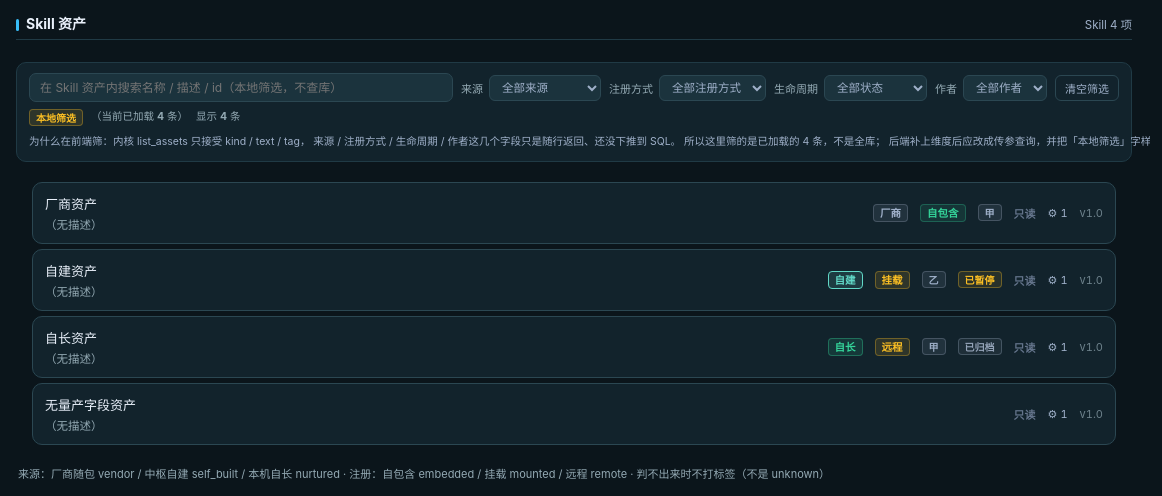
Scenario: AssetKindPanel · 本地筛选（来源 / 注册方式 / 生命周期 / 作者） › 「清空筛选」一键复位：四个维度 + 关键词全部清掉
This screenshot has width=1162, height=496.
Expected: the text "厂商资产" is shown, top-left (45, 196), bottom-right (97, 212)
Expected: the button with class "filter-clear" is disabled, top-left (1055, 74), bottom-right (1119, 100)
Select "厂商随包（1）" in the dropdown labelled "来源": (545, 88) top-left (489, 74), bottom-right (601, 100)
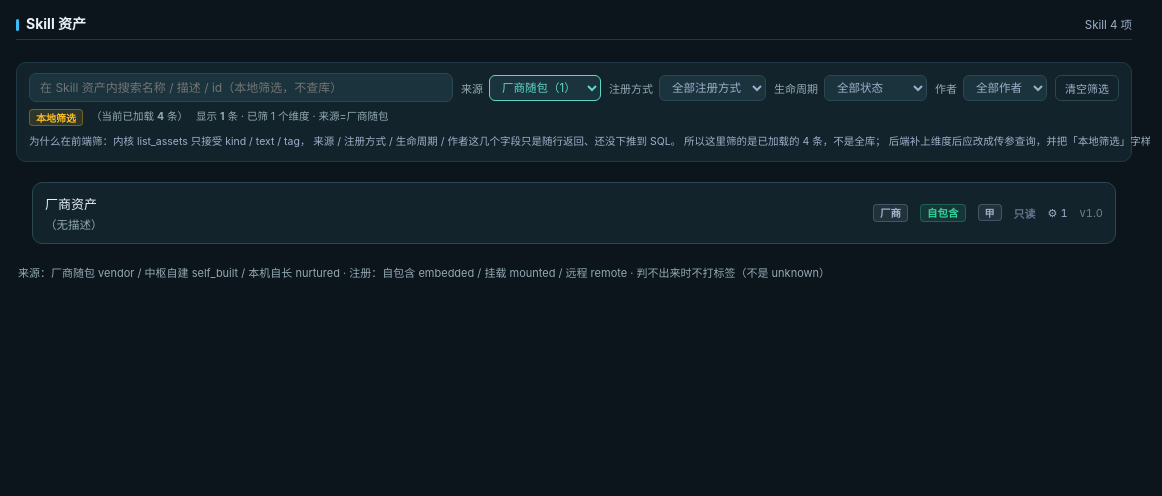
Expected: the button with class "filter-clear" is enabled, top-left (1055, 74), bottom-right (1119, 100)
In the field with class "kind-search": (241, 88) top-left (29, 73), bottom-right (453, 102), type "厂商"
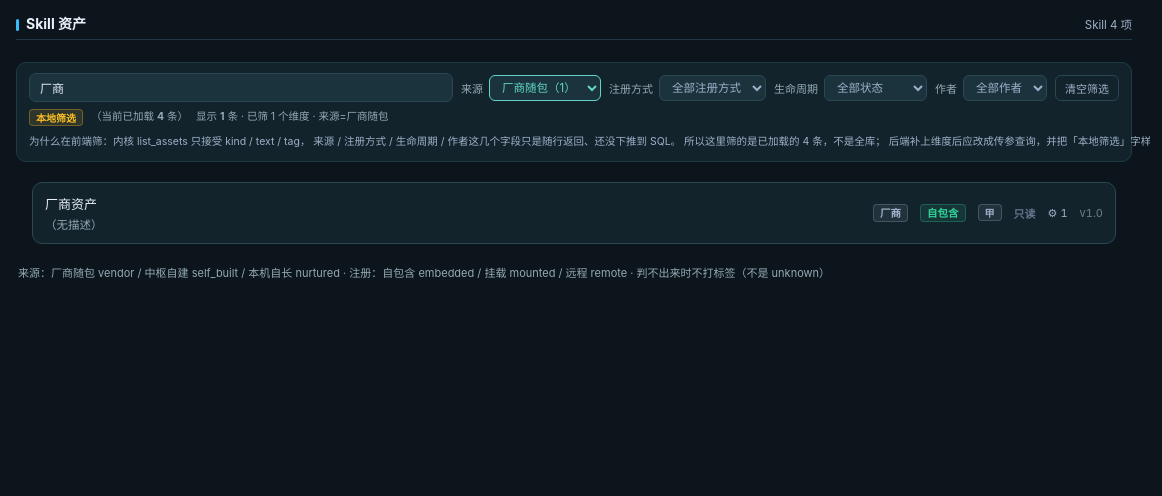
Click the button with class "filter-clear": click(1087, 88) top-left (1055, 74), bottom-right (1119, 100)
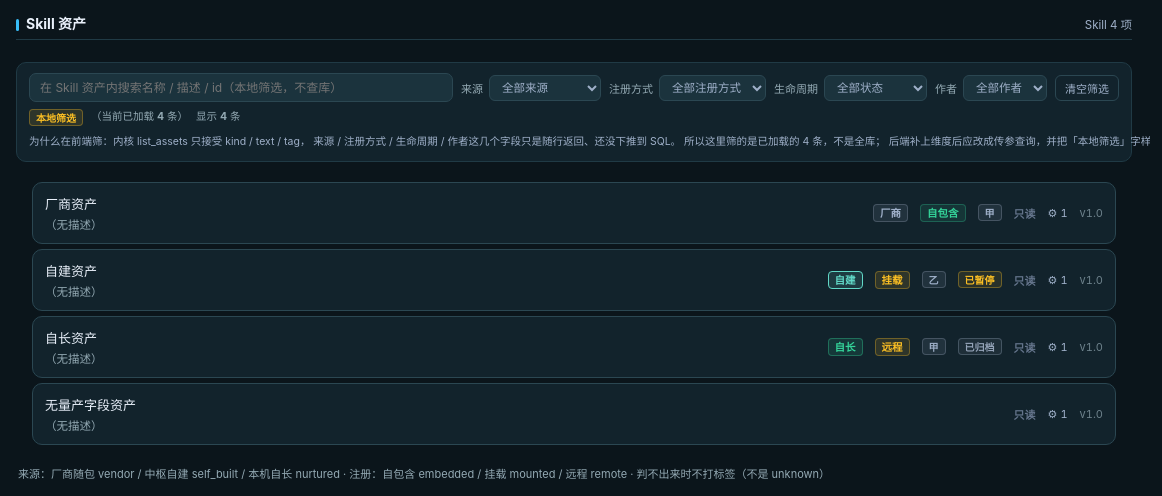
Expected: the field with class "kind-search" is empty, top-left (29, 73), bottom-right (453, 102)
Expected: the text "自建资产" is shown, top-left (45, 263), bottom-right (97, 279)
Expected: the text "自长资产" is shown, top-left (45, 330), bottom-right (97, 346)
